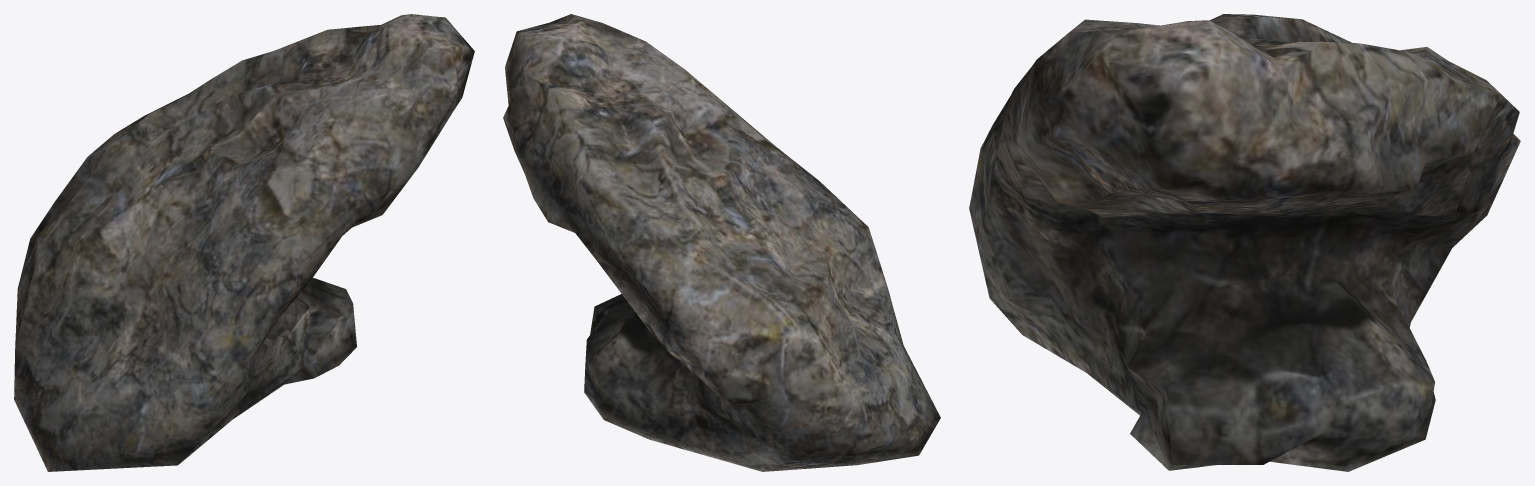
The model's file is rock_03.dae.
3 views of the same model, side by side, from view 1: azimuth 30°, elevation 25°; view 2: azimuth 150°, elevation 25°; view 3: azimuth 270°, elevation 25° (orthographic). The views are drawn at different scales.
Visible parts, largest first — view 1: rock_03; view 2: rock_03; view 3: rock_03.
Boxes of the visible parts, <box> form: rock_03: <box>14,14,474,471</box>; rock_03: <box>503,14,940,471</box>; rock_03: <box>969,14,1520,471</box>.
Bounding box in the file's own units: 1.02 × 0.734 × 0.8259.
Materials: 1 (1 with a texture image).
